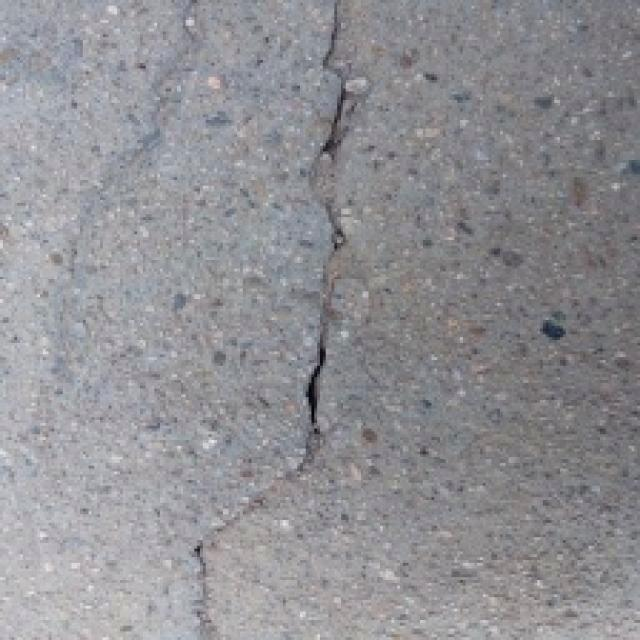SurfaceCrack: (170, 0, 414, 634)
